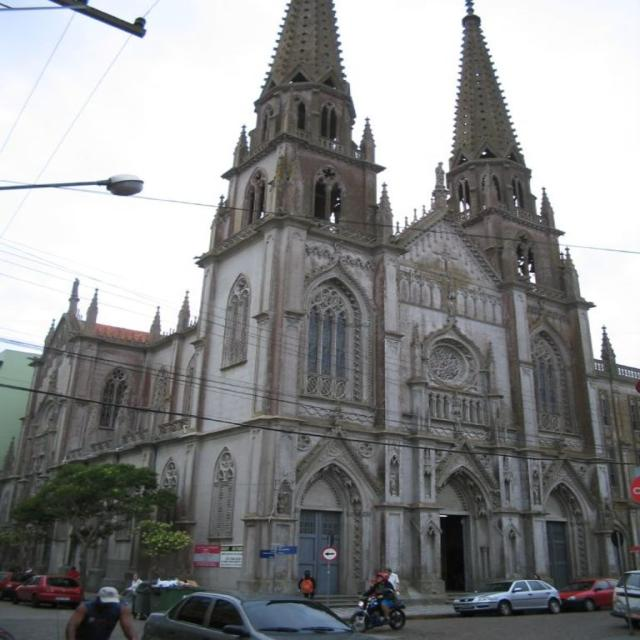car: (452, 577, 559, 615), (12, 571, 83, 607)
